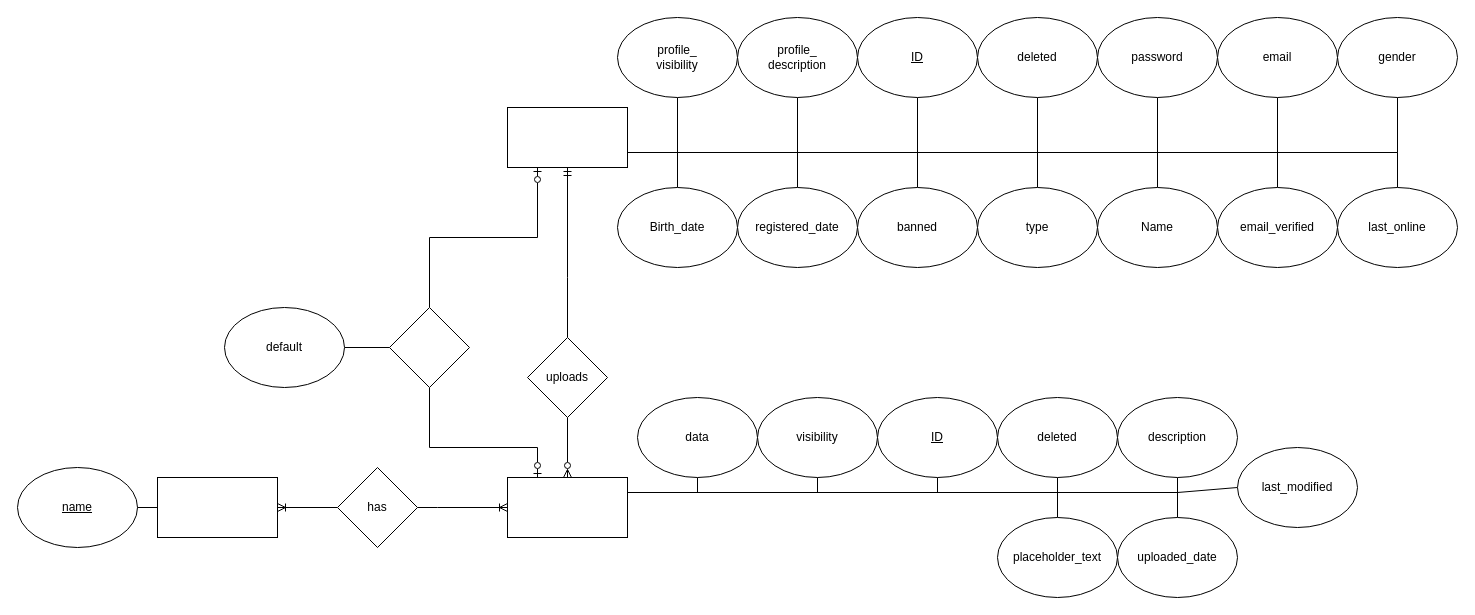
This 1475x615 diagram has some shape labels left out. The shapes that lost their labels are listed below. From the top down, each one's centre as x and y in pixels, then its label:
At pixel 567 137: "User".
At pixel 429 347: "profile_ avatar".
At pixel 217 507: "tag".
At pixel 567 507: "media".
